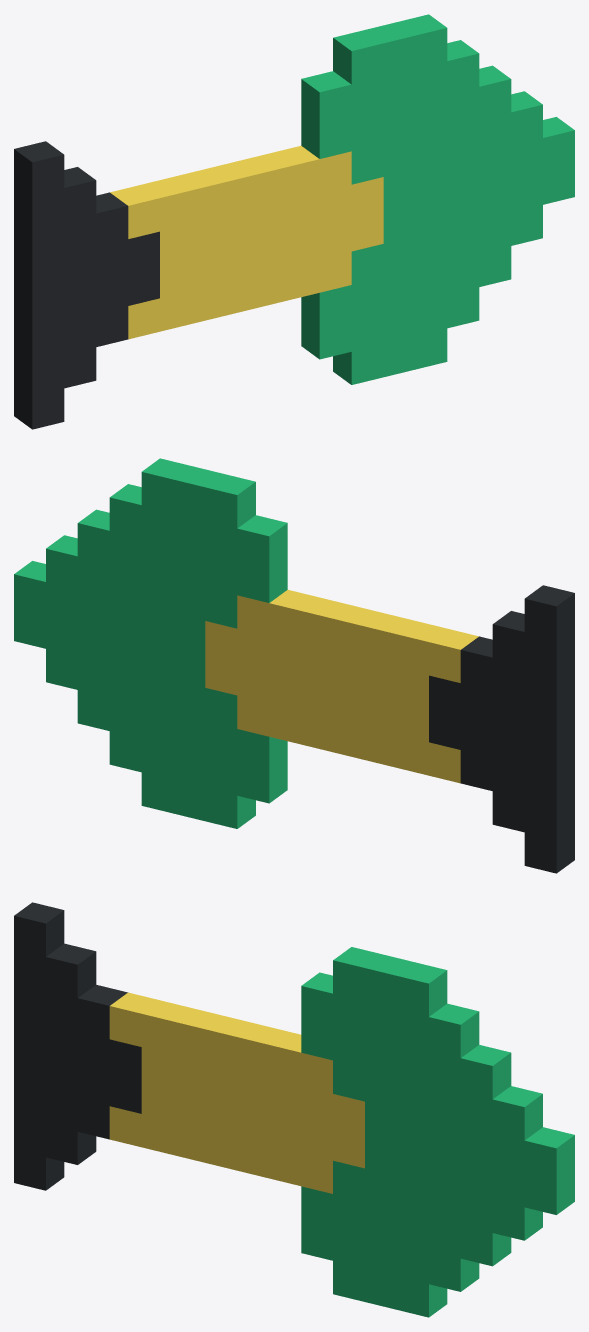
File: Rocket_Upgraded.fbx
3 views of the same model, one above another, from view 1: azimuth 30°, elevation 25°; view 2: azimuth 150°, elevation 25°; view 3: azimuth 330°, elevation 25° (orthographic).
Parts seen in each view (by area): view 1: generated; view 2: generated; view 3: generated.
Boxes of the visible parts, x1,y1,x2,y2 form: generated: [14, 14, 574, 429]; generated: [14, 458, 574, 873]; generated: [14, 902, 574, 1317].
Size of the model in its own units: 170 by 100 by 10.
